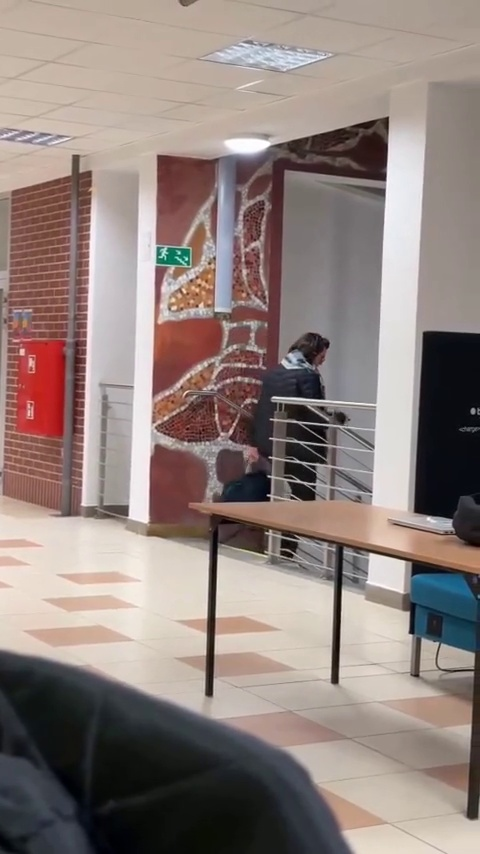no vest: (258, 331, 343, 551)
